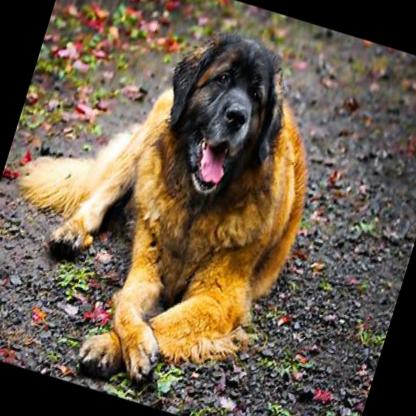Leonberg: (0, 0, 350, 416)
